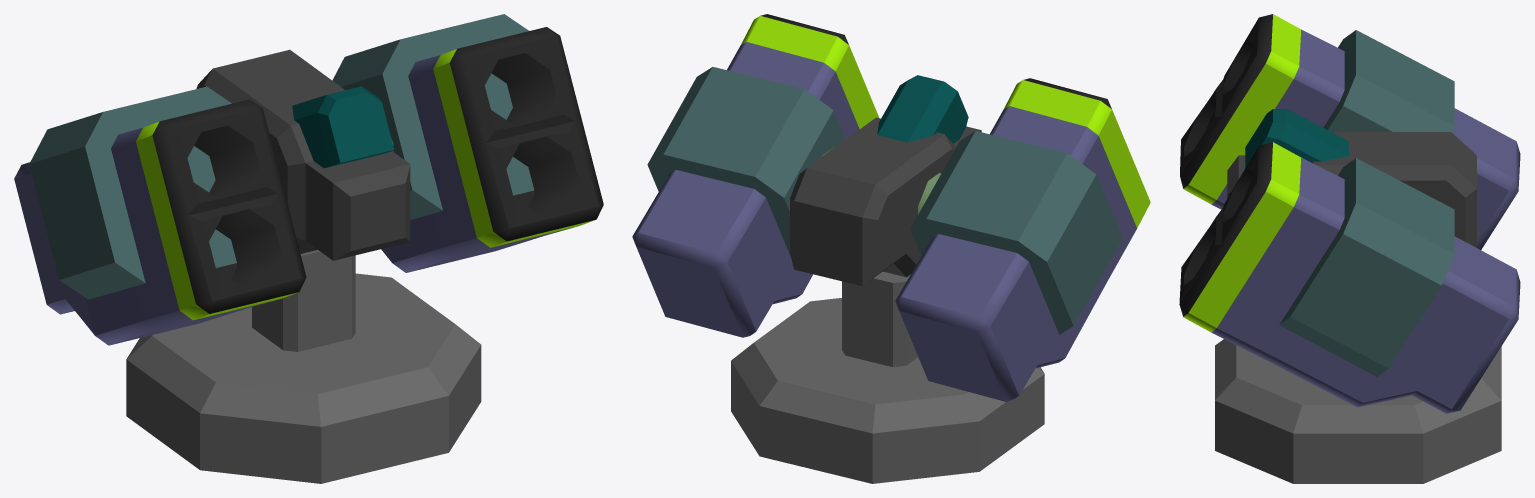
File: misl.fbx
The picture shows the model from 3 angles, left to right: view 1: azimuth 30°, elevation 25°; view 2: azimuth 150°, elevation 25°; view 3: azimuth 270°, elevation 25°; orthographic projection. The views are drawn at different scales.
Visible parts, largest first — view 1: Turret, Base; view 2: Turret, Base; view 3: Turret, Base.
Boxes of the visible parts, x1,y1,x2,y2 form: Turret: (14,14,603,345); Base: (126,250,481,483); Turret: (632,14,1150,401); Base: (731,271,1044,483); Turret: (1179,14,1520,413); Base: (1215,339,1501,483).
Size of the model in its own units: 8540 by 6699 by 6321.
